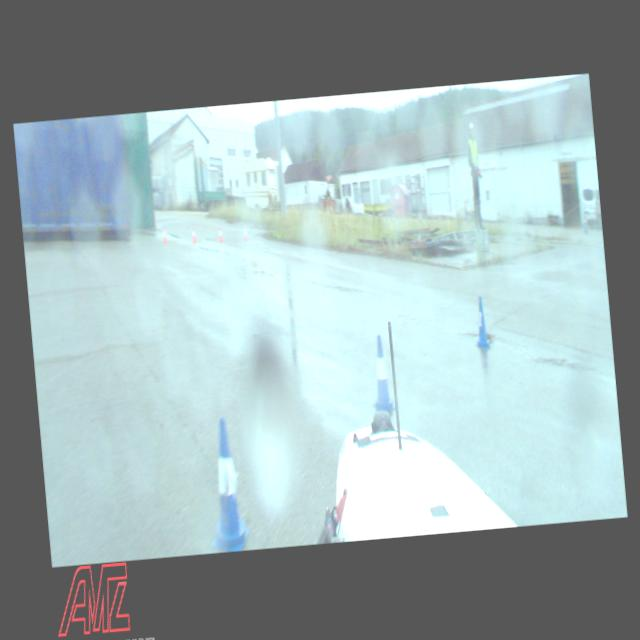blue_cone: (201, 417, 250, 553), (367, 334, 395, 411), (473, 298, 490, 348)
orange_cone: (161, 226, 168, 242), (242, 225, 248, 241), (191, 228, 196, 242), (218, 228, 222, 242)
